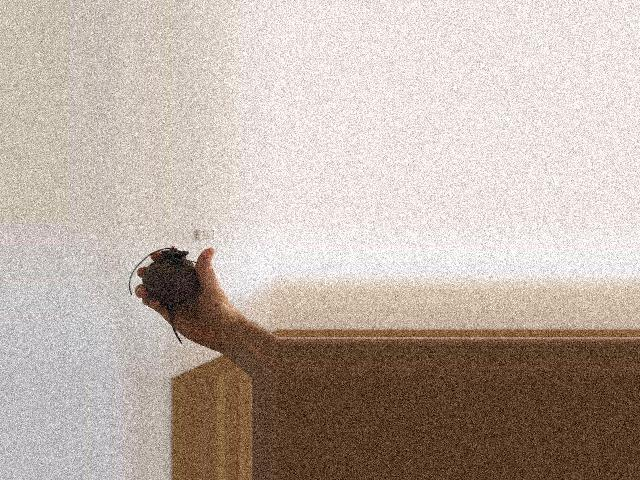beet: (127, 246, 196, 343)
